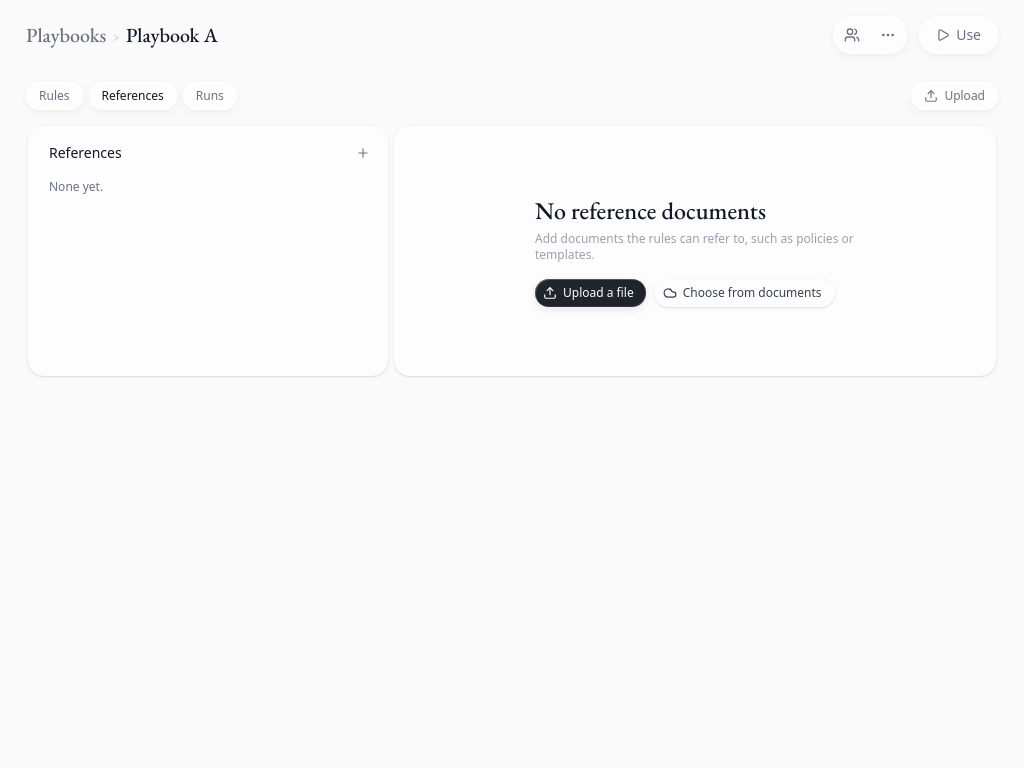
Scenario: playbooks page › keeps a playbook's tab in the URL
This screenshot has width=1024, height=768.
Expected: the button "References" is shown, [88,82,177,110]
Click the button "Rules": (54, 96) [26,82,82,110]
(page scrolled)
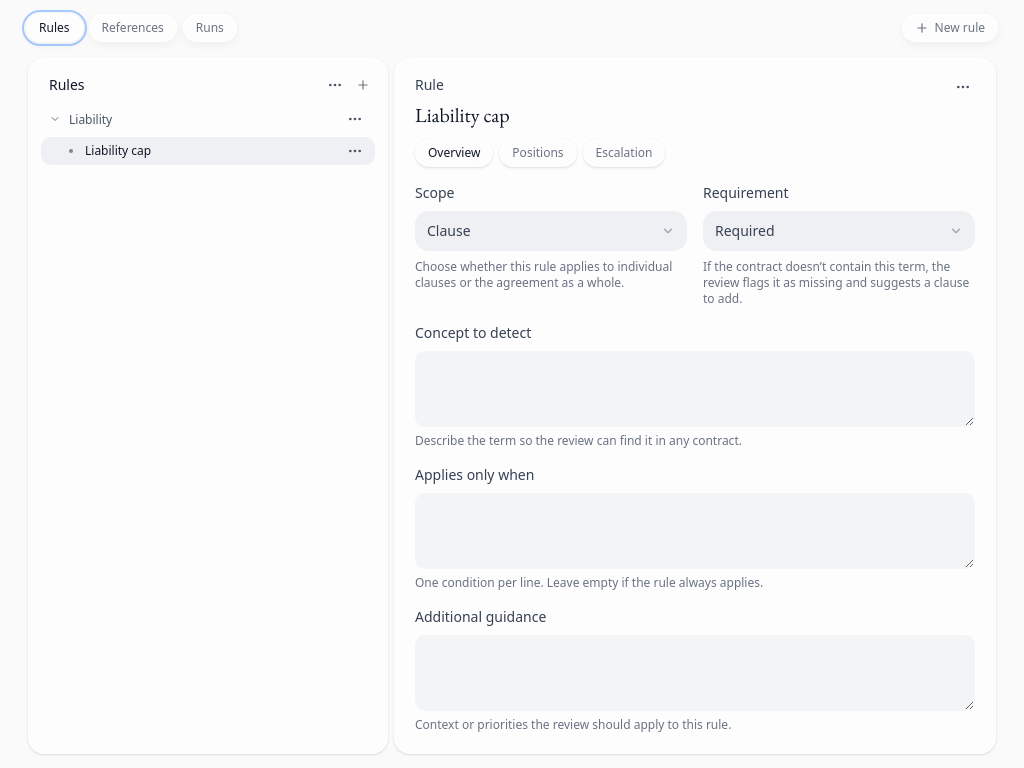
Expected: the element named "Topics and rules" is shown, [28,58,388,754]
